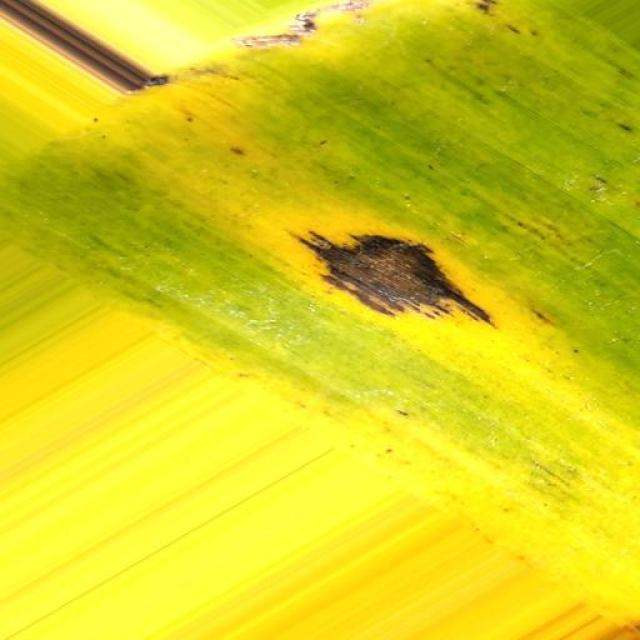Early_rust: (265, 184, 533, 402), (176, 0, 386, 68)
